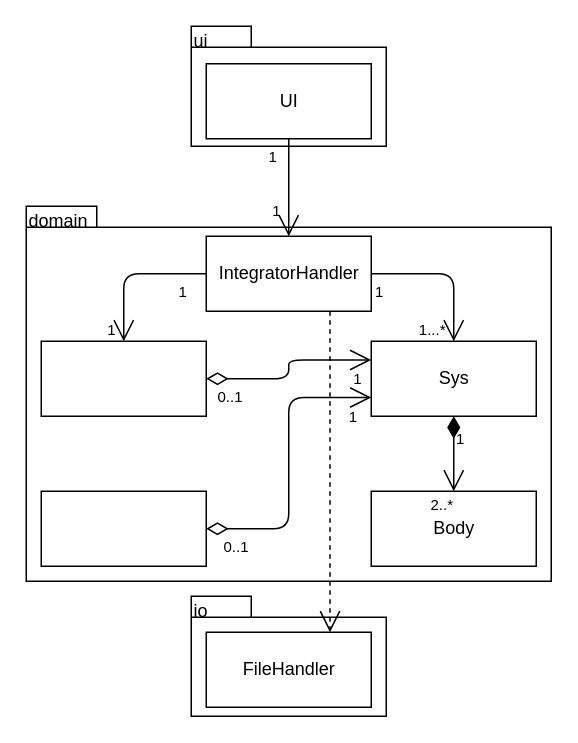
The diagram is 578 pixels wide and 743 high, and some of its shapes have lost their labels. The centre of each missing label's shape, as x and y in pixels:
Integrator: the point at 123,528
IntegratorTask: the point at 123,378
